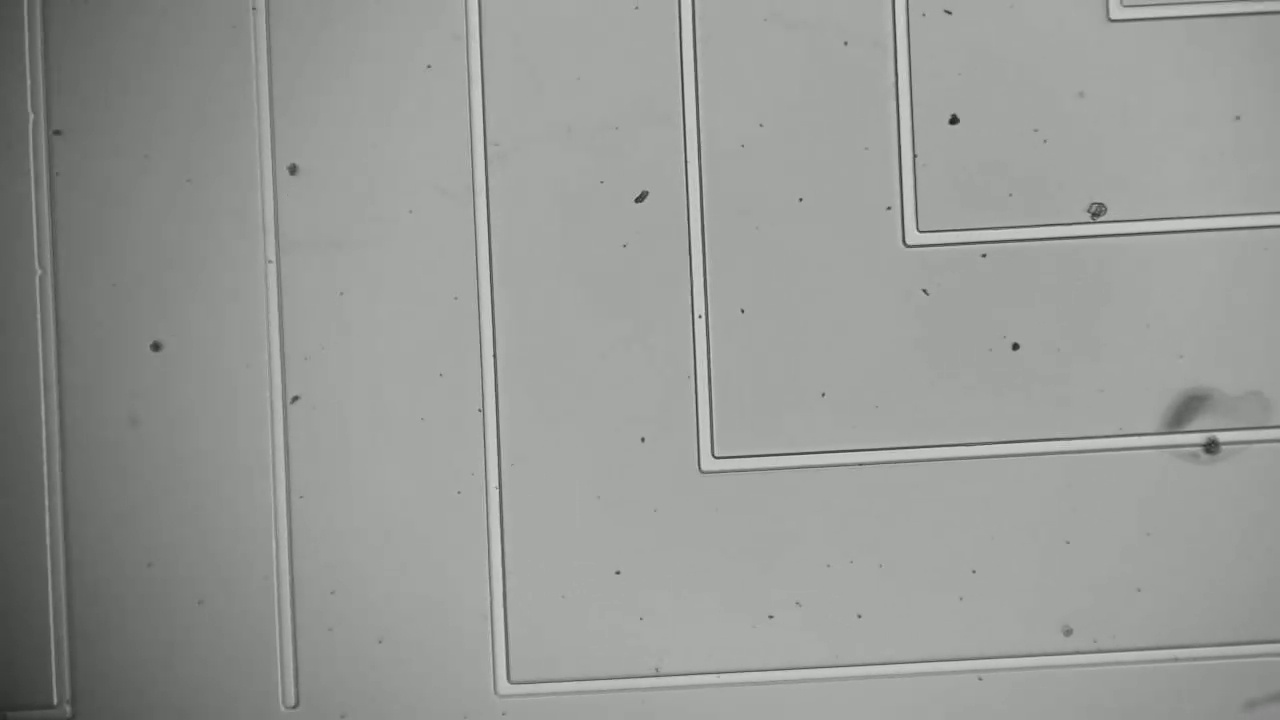edge_bite: (30, 259, 61, 287), (23, 105, 53, 128)
stains_enbedded: (1196, 421, 1231, 464)
